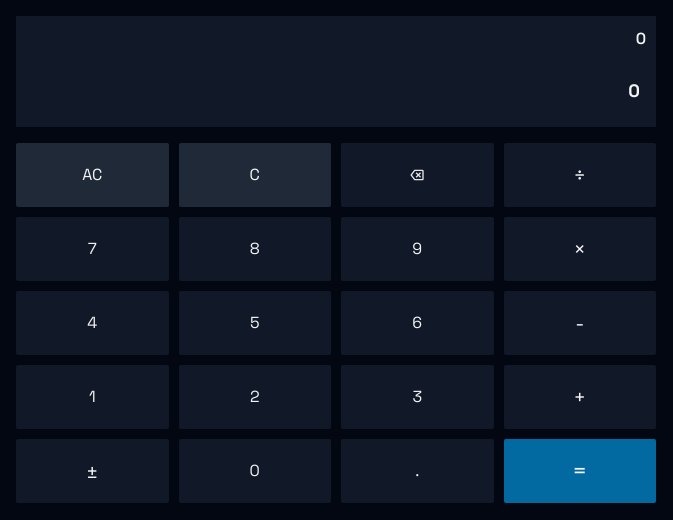
Test: Test Operations › Test basic division operation
Click the button with test id "1" at (92, 397), box x1=16 y1=365 x2=168 y2=429
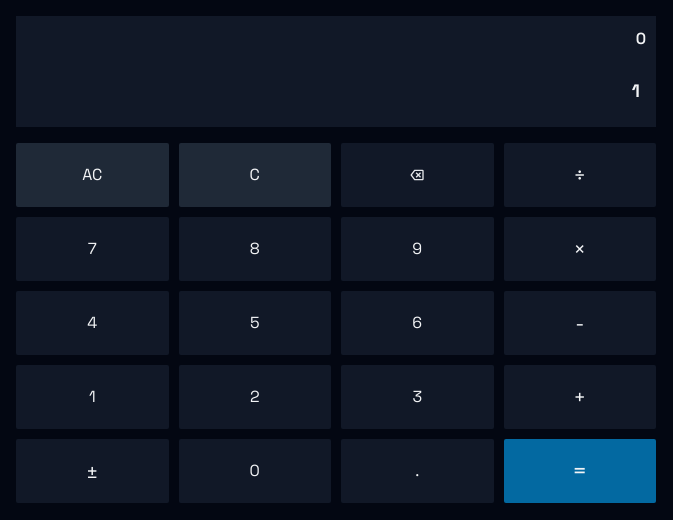
Click the button with test id "5" at (255, 323), box x1=178 y1=291 x2=331 y2=355
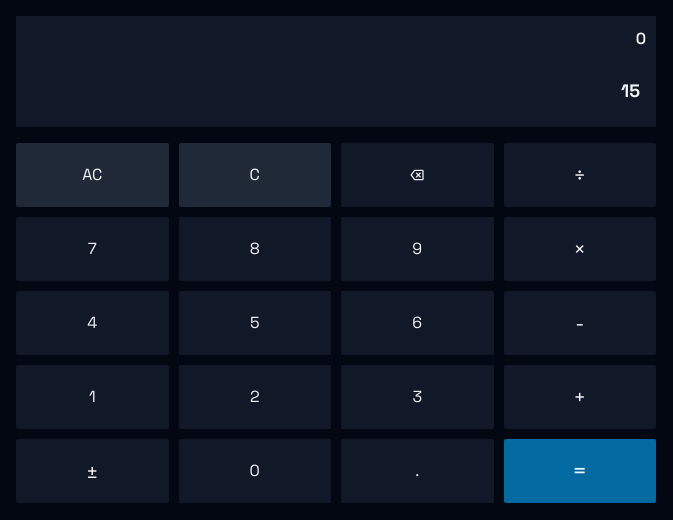
Click the button with test id "div" at (580, 175), box x1=504 y1=143 x2=656 y2=207
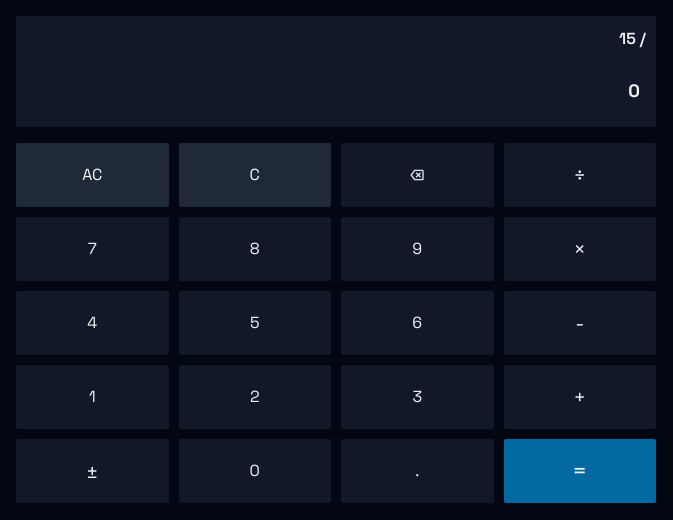
Click the button with test id "2" at (255, 397), box x1=178 y1=365 x2=331 y2=429
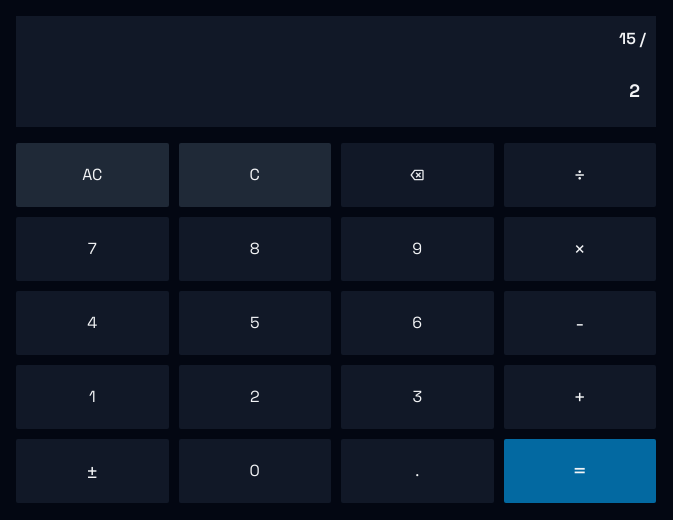
Click the button with test id "eval" at (580, 471), box x1=504 y1=439 x2=656 y2=503
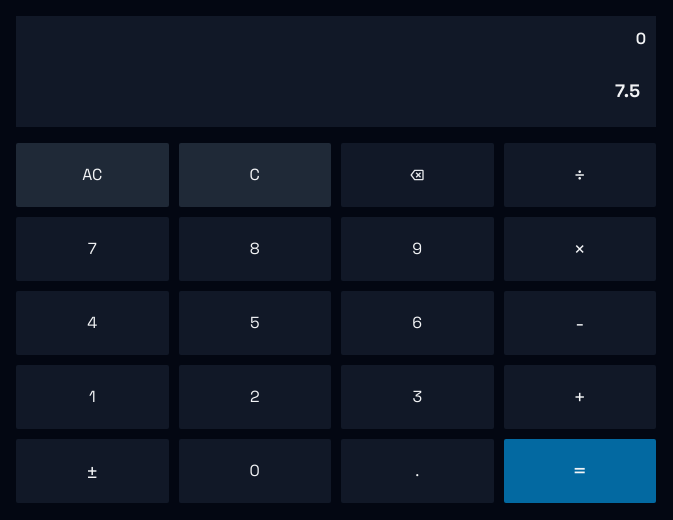
Expected: the text with test id "calculator-currentOperand" reads "7.5", x1=615 y1=79 x2=640 y2=102
